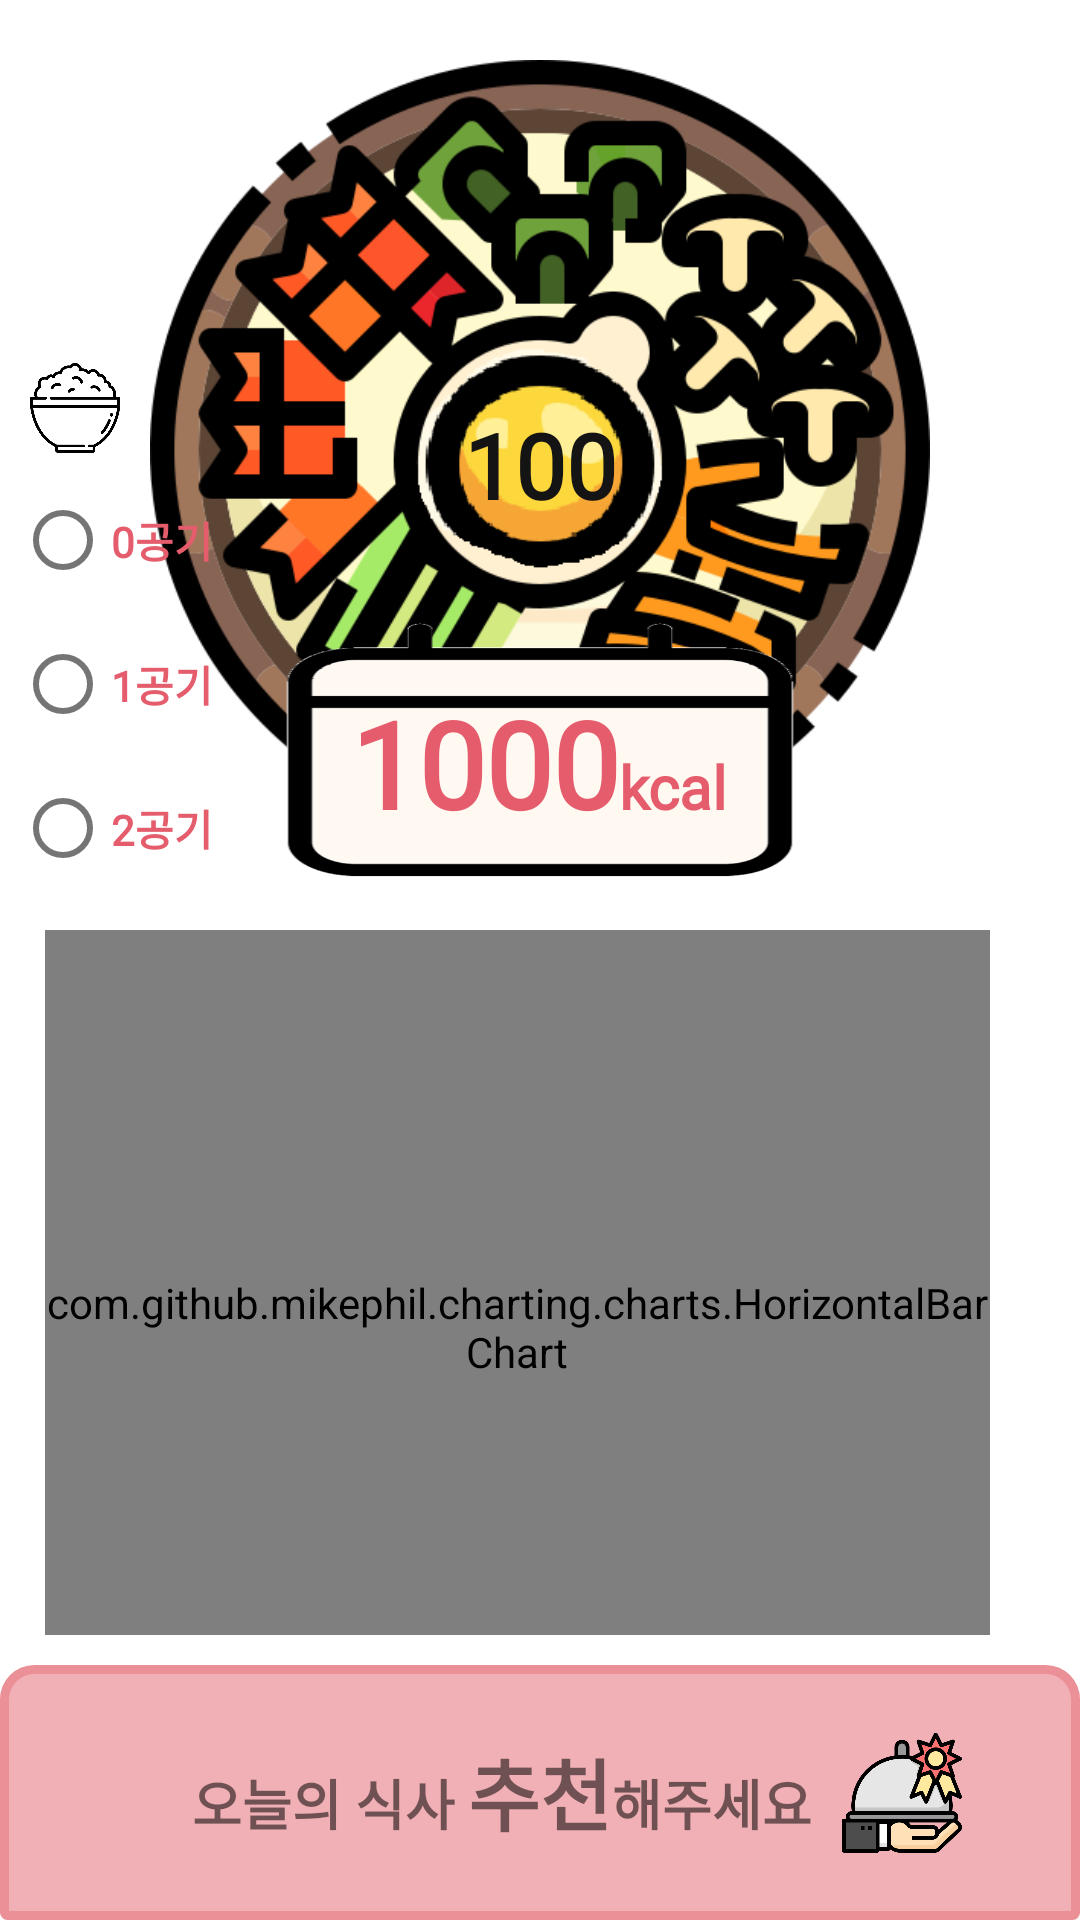

Icons on this 1080px×1920px Android screen, each with the point to tap as point (x, y):
recommend menu: point (902, 1793)
